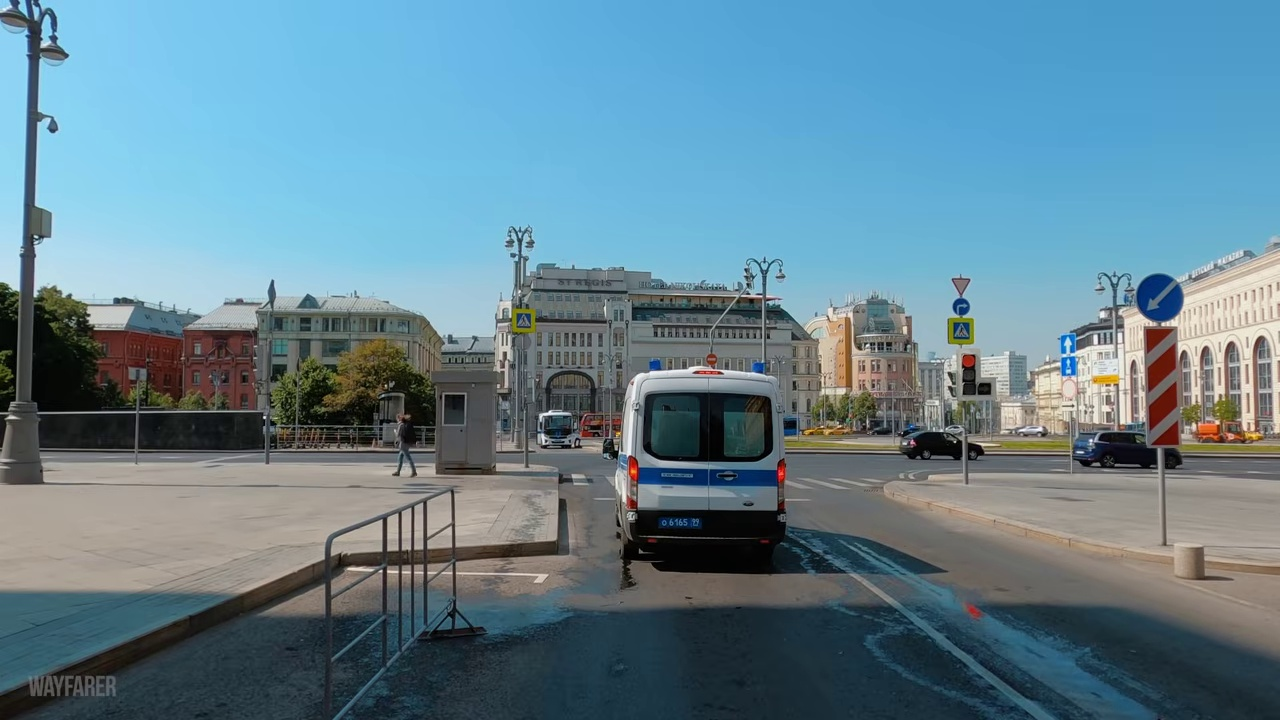apagada: (36, 115, 62, 140)
